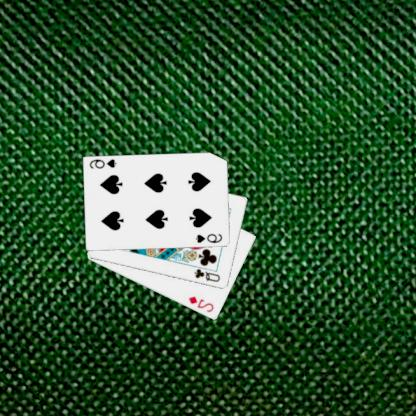2D: (188, 293, 217, 314)
6S: (89, 156, 120, 170), (195, 231, 225, 244)
QC: (194, 266, 224, 284)
